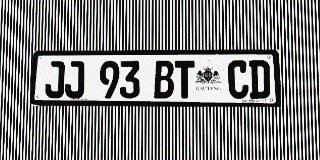3: (120, 61, 140, 98)
9: (100, 61, 119, 98)
B: (154, 61, 174, 98)
C: (228, 60, 249, 99)
D: (249, 60, 270, 99)
J: (45, 61, 65, 98), (65, 61, 85, 98)
T: (175, 61, 195, 99)
